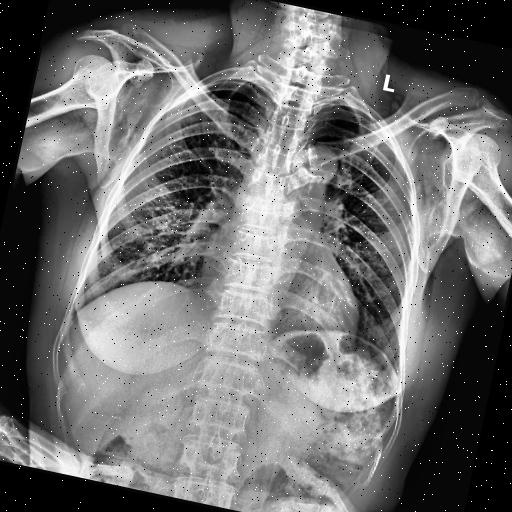0- Aortic enlargement: (280, 132, 342, 210), (282, 138, 342, 198), (282, 137, 342, 196)
